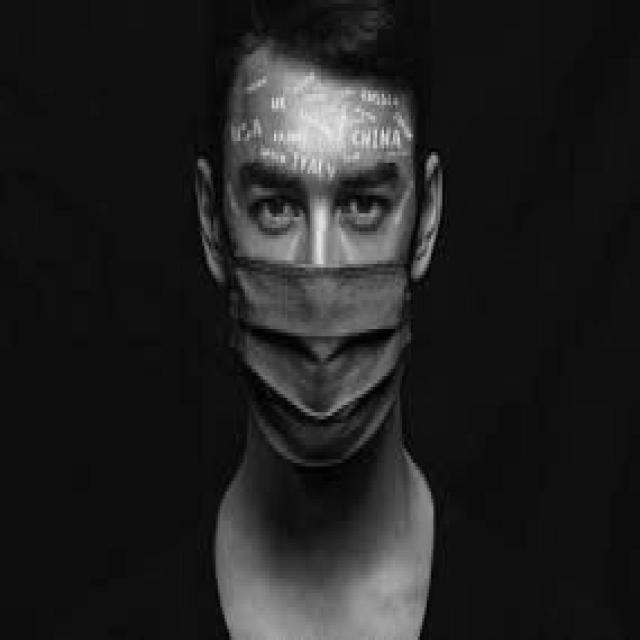with_mask: (222, 246, 414, 470)
